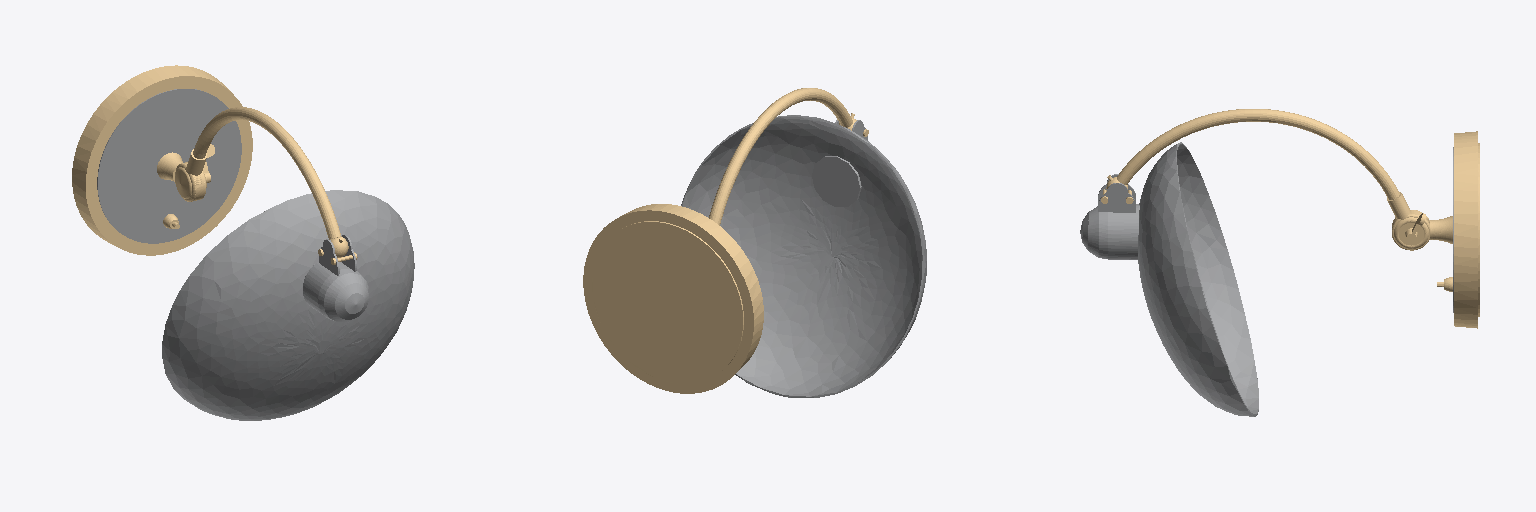
Rendered from Lighting_Desk-Table-Lighting_Fritz-Hansen_KAISER-IdellT-6631-T-LUXUS.obj.
3 views of the same model, side by side, from view 1: azimuth 30°, elevation 25°; view 2: azimuth 150°, elevation 25°; view 3: azimuth 270°, elevation 25° (orthographic).
Parts seen in each view (by area): view 1: default; view 2: default; view 3: default.
Part boxes in pixels (left/top/right/bottom): default: left=72, top=65, right=414, bottom=420; default: left=583, top=88, right=926, bottom=397; default: left=1080, top=109, right=1479, bottom=416.
Bounding box in the file's own units: 284 × 324 × 399.